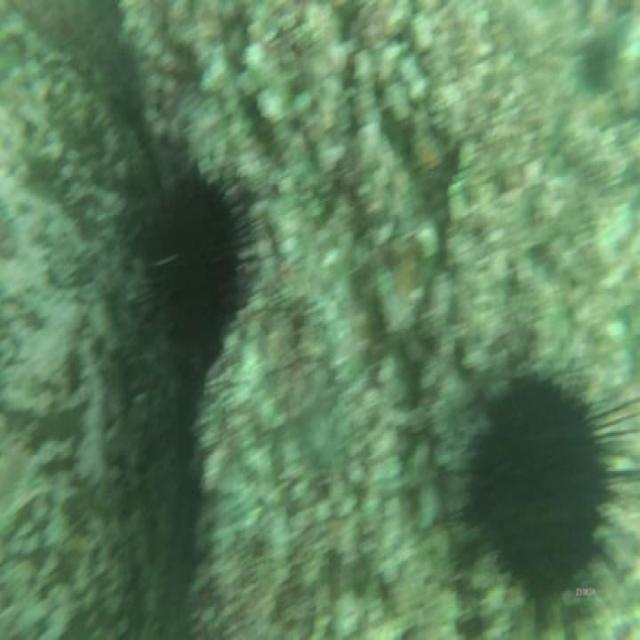echinus: (465, 365, 610, 607), (145, 161, 248, 373)
